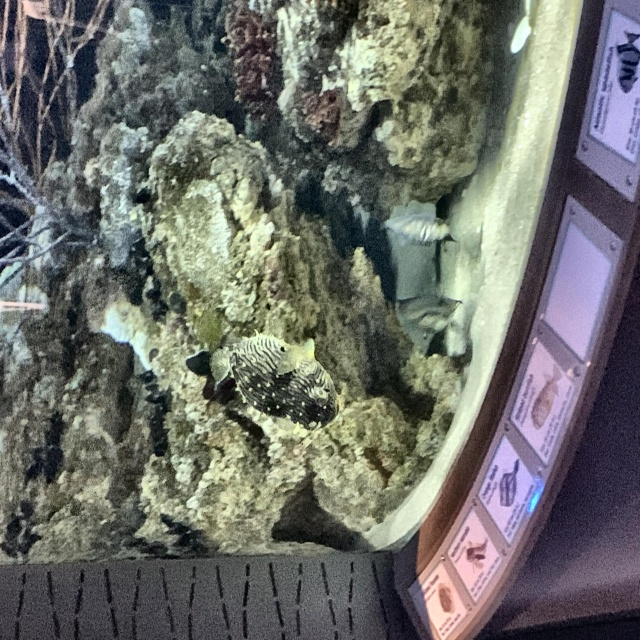fish: (210, 331, 341, 431), (395, 292, 464, 354), (382, 211, 461, 246)
